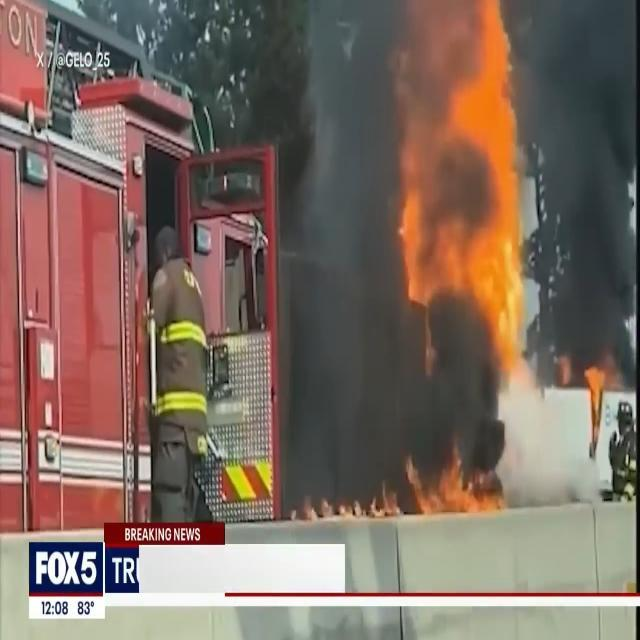fire: (400, 0, 536, 524)
